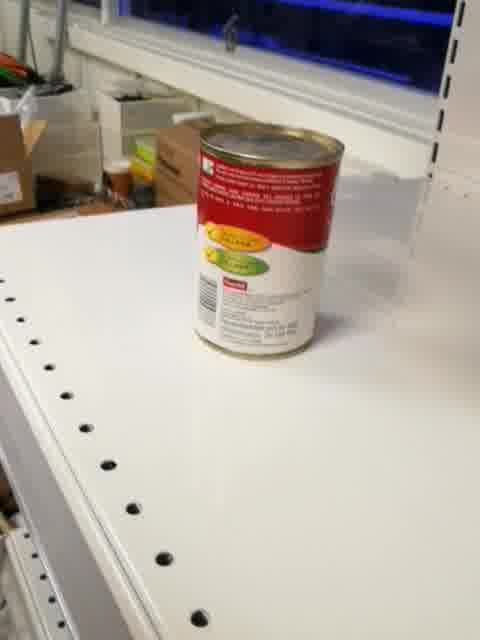tomatosoup: (191, 121, 351, 361)
